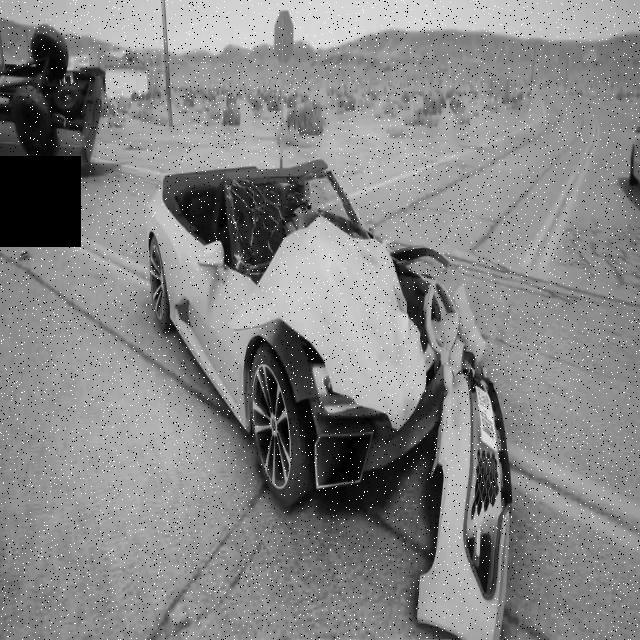severe: (144, 159, 514, 518), (2, 25, 112, 185)
